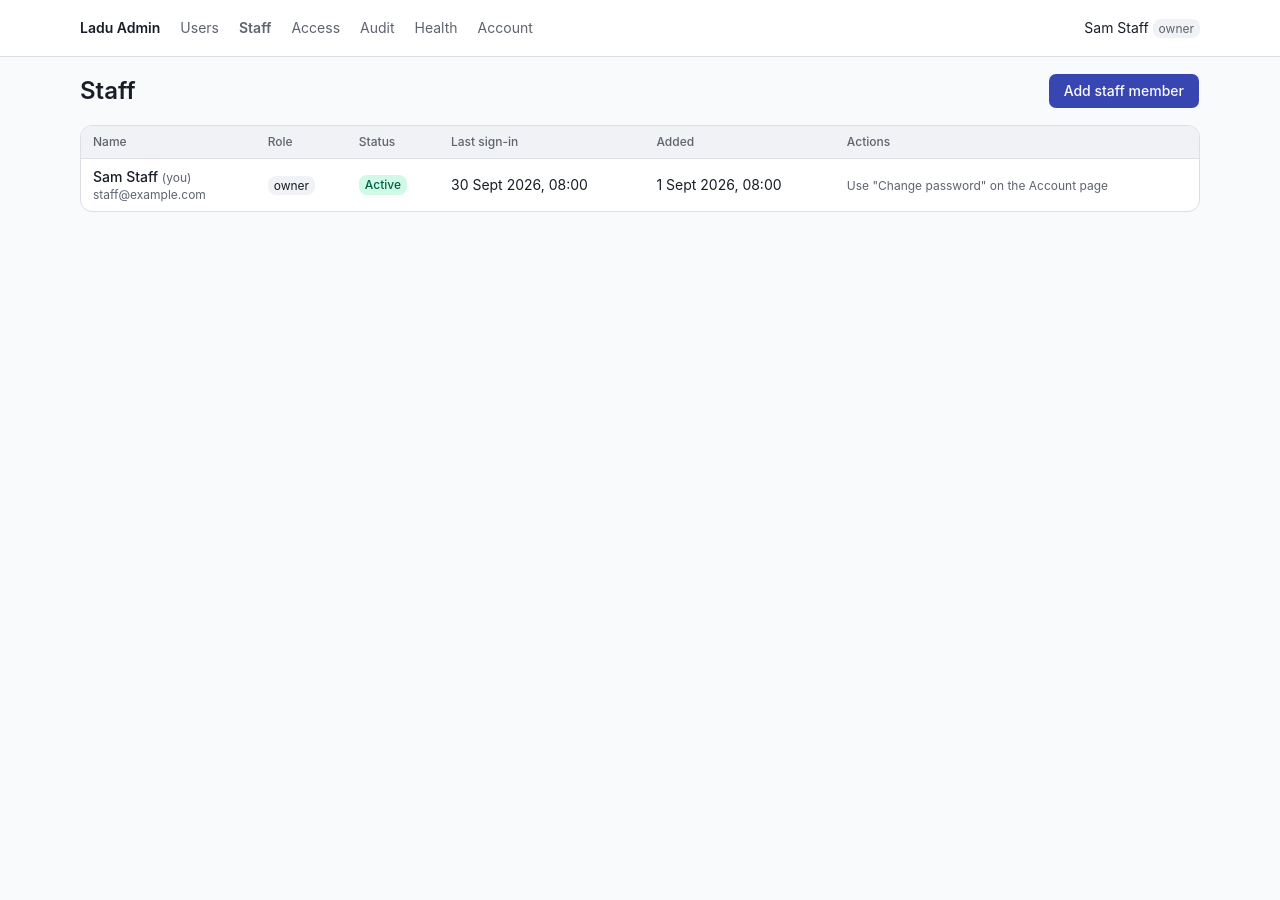
Test: add a staff member › shows the server message when the email is taken, and keeps the dialog open
The image size is (1280, 900).
Click the button "Add staff member" at (1124, 91), box [1048,73,1200,109]
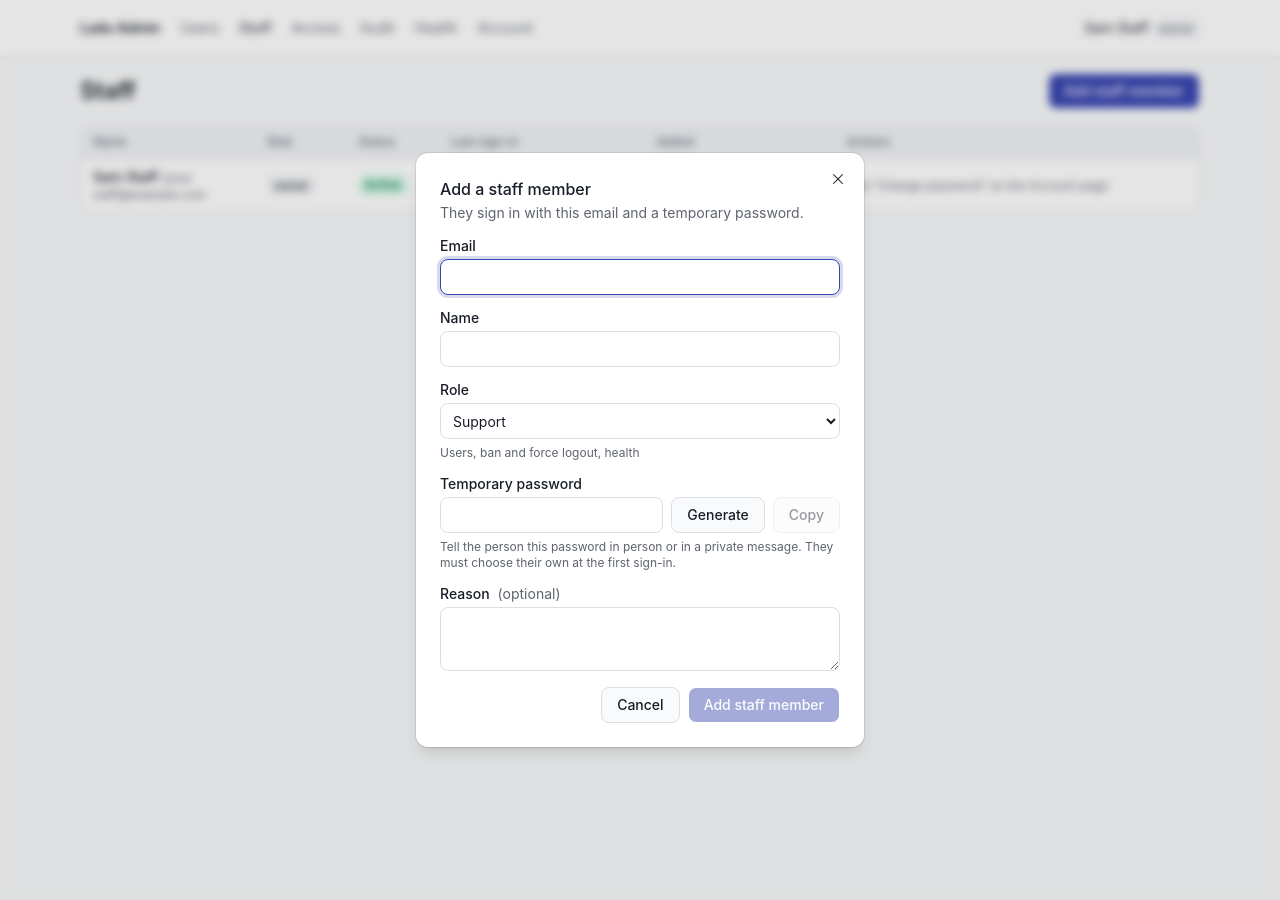
Type "robin@example.test" into the field labelled "Email" at (640, 277), box [440,259,840,295]
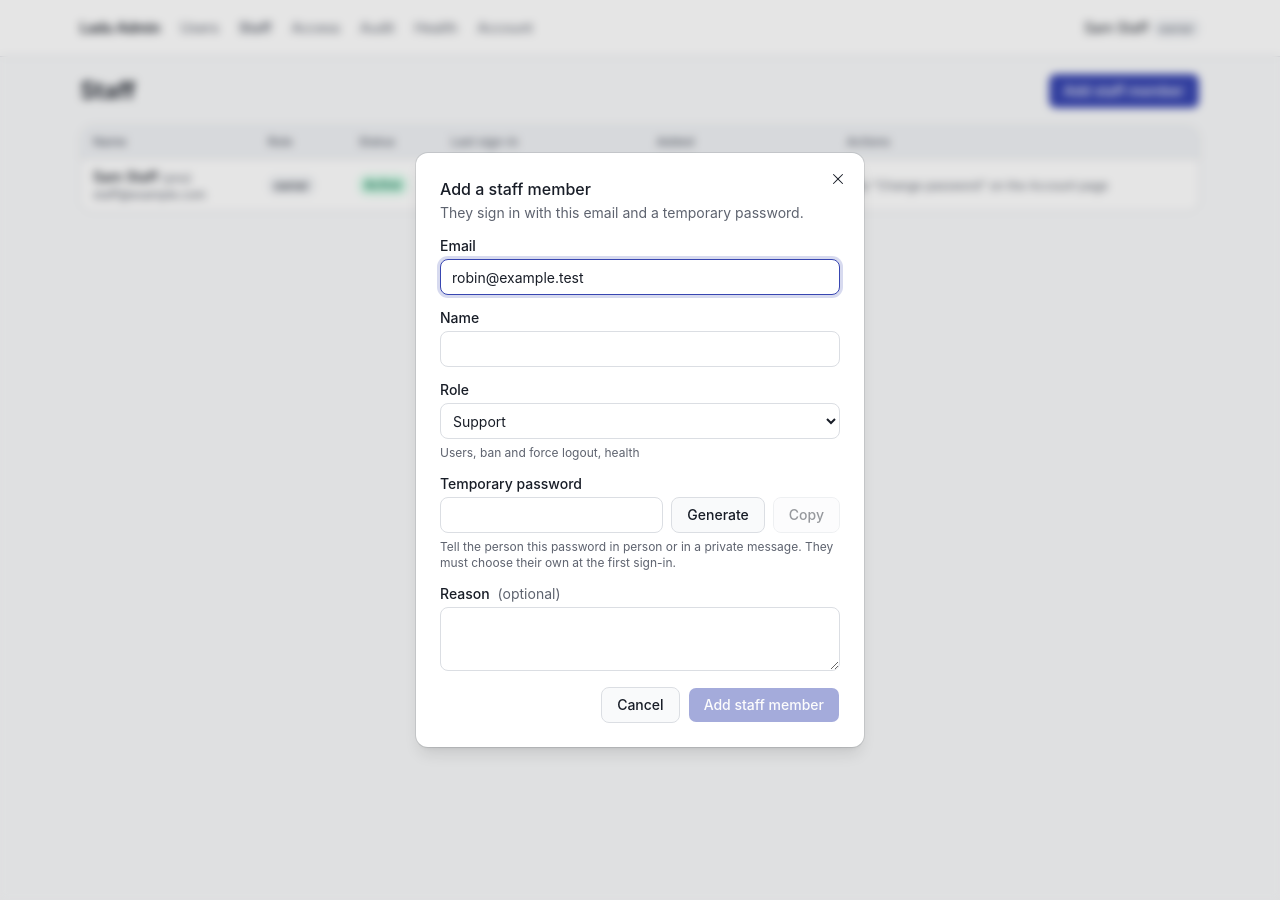
Type "Robin" into the field labelled "Name" at (640, 349), box [440,331,840,367]
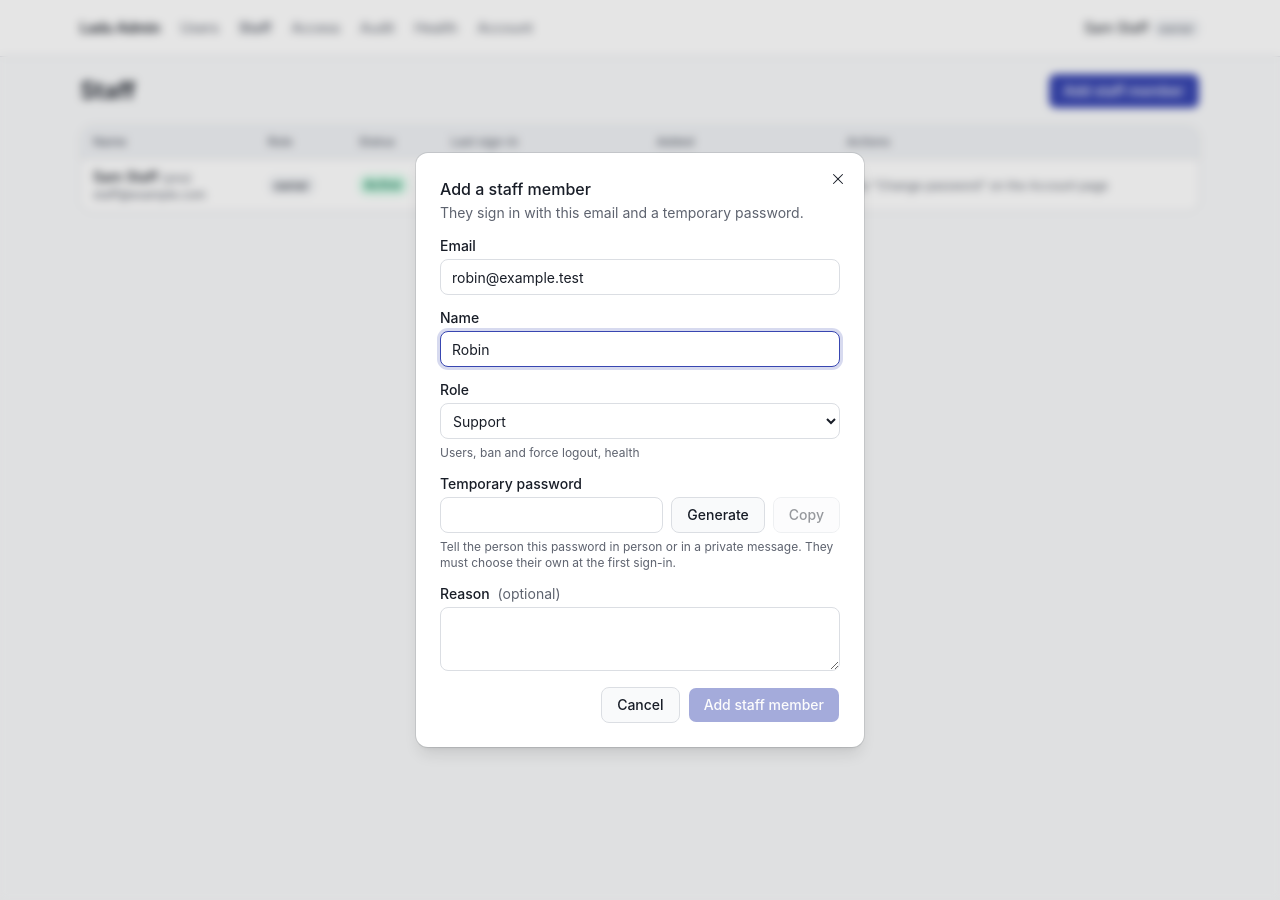
Click the button "Generate" at (718, 515), box [671,497,765,533]
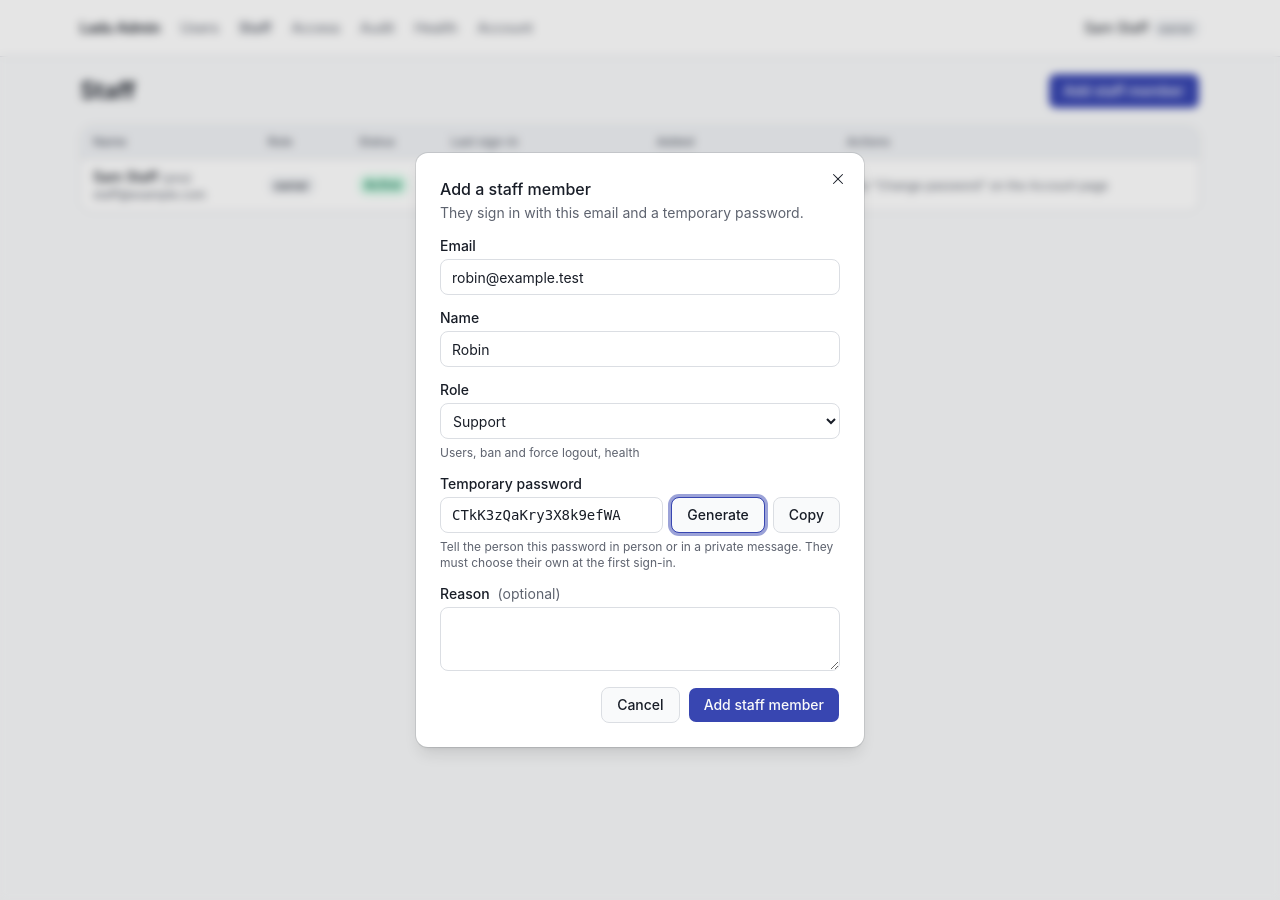
Click the button "Add staff member" at (764, 705), box [688,687,840,723]
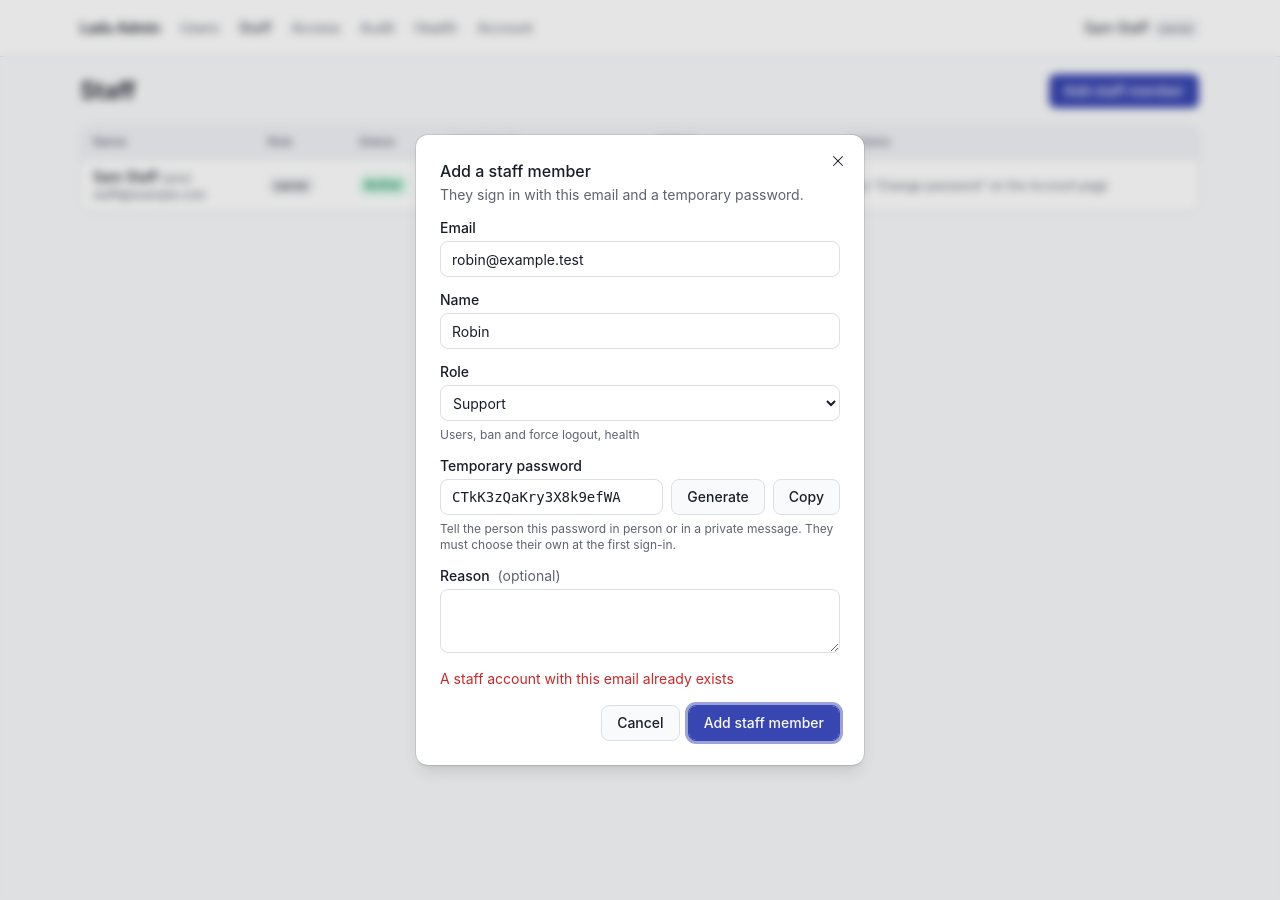
Result: the button "Add staff member" is enabled at [688,705,840,741]
Result: the message reads "A staff account with this email already exists" at [440,670,734,687]
